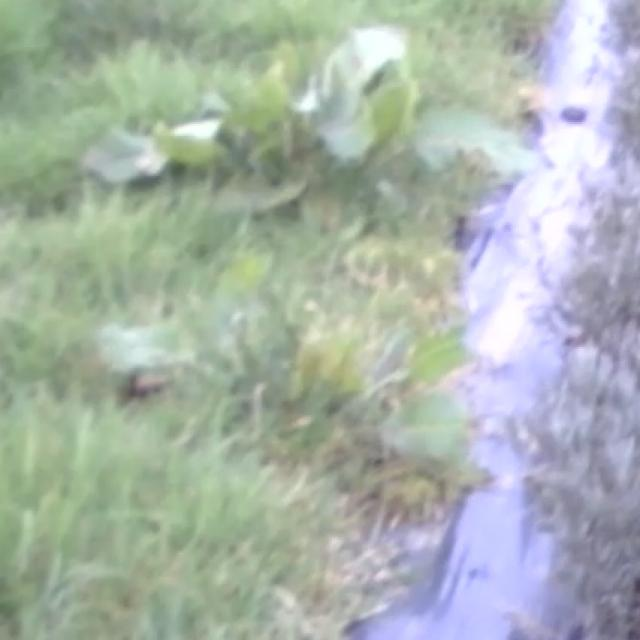organic waste: (74, 0, 540, 221), (102, 278, 509, 492)
